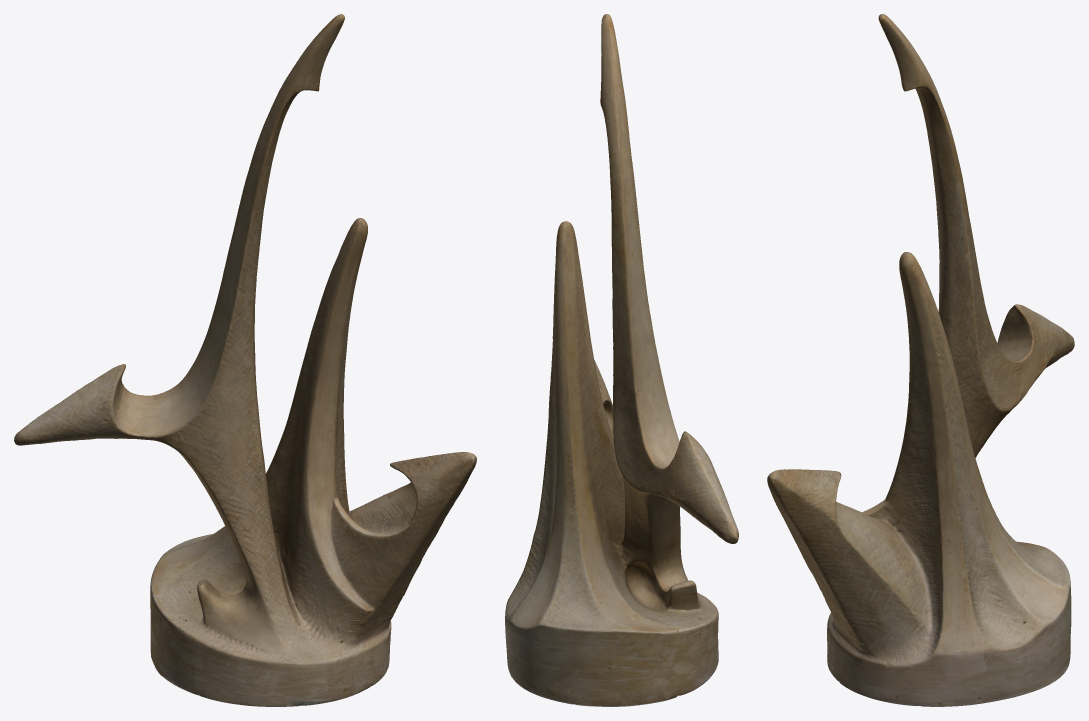
The model's file is sculture1.glb.
3 views of the same model, side by side, from view 1: azimuth 30°, elevation 25°; view 2: azimuth 150°, elevation 25°; view 3: azimuth 270°, elevation 25° (orthographic). The views are drawn at different scales.
Parts seen in each view (by area): view 1: Object_2, Object_3; view 2: Object_2, Object_3; view 3: Object_2, Object_3.
Boxes of the visible parts, <box> form: Object_2: <box>14,14,391,706</box>; Object_3: <box>150,299,476,692</box>; Object_2: <box>505,14,738,700</box>; Object_3: <box>505,303,681,706</box>; Object_2: <box>802,14,1074,706</box>; Object_3: <box>767,293,1071,706</box>.
Bounding box in the file's own units: 0.3339 × 0.6673 × 0.2803.
Materials: 1 (1 with a texture image).
